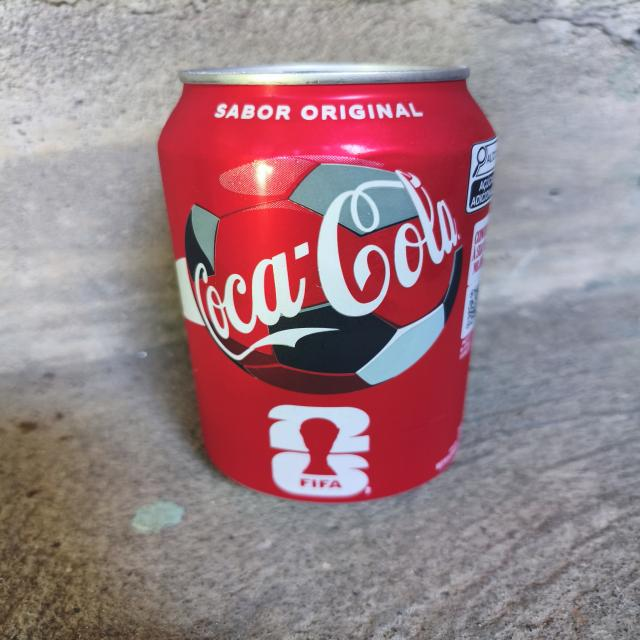Coca Cola: (158, 54, 486, 508)
